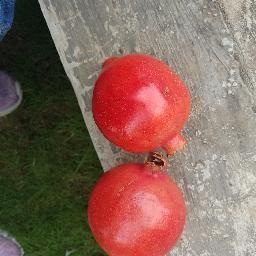pomegranate: (91, 54, 191, 155), (86, 157, 187, 256)
